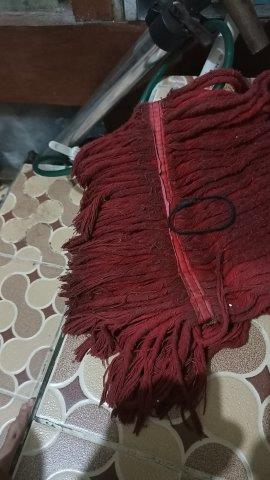karet: (166, 195, 236, 236)
